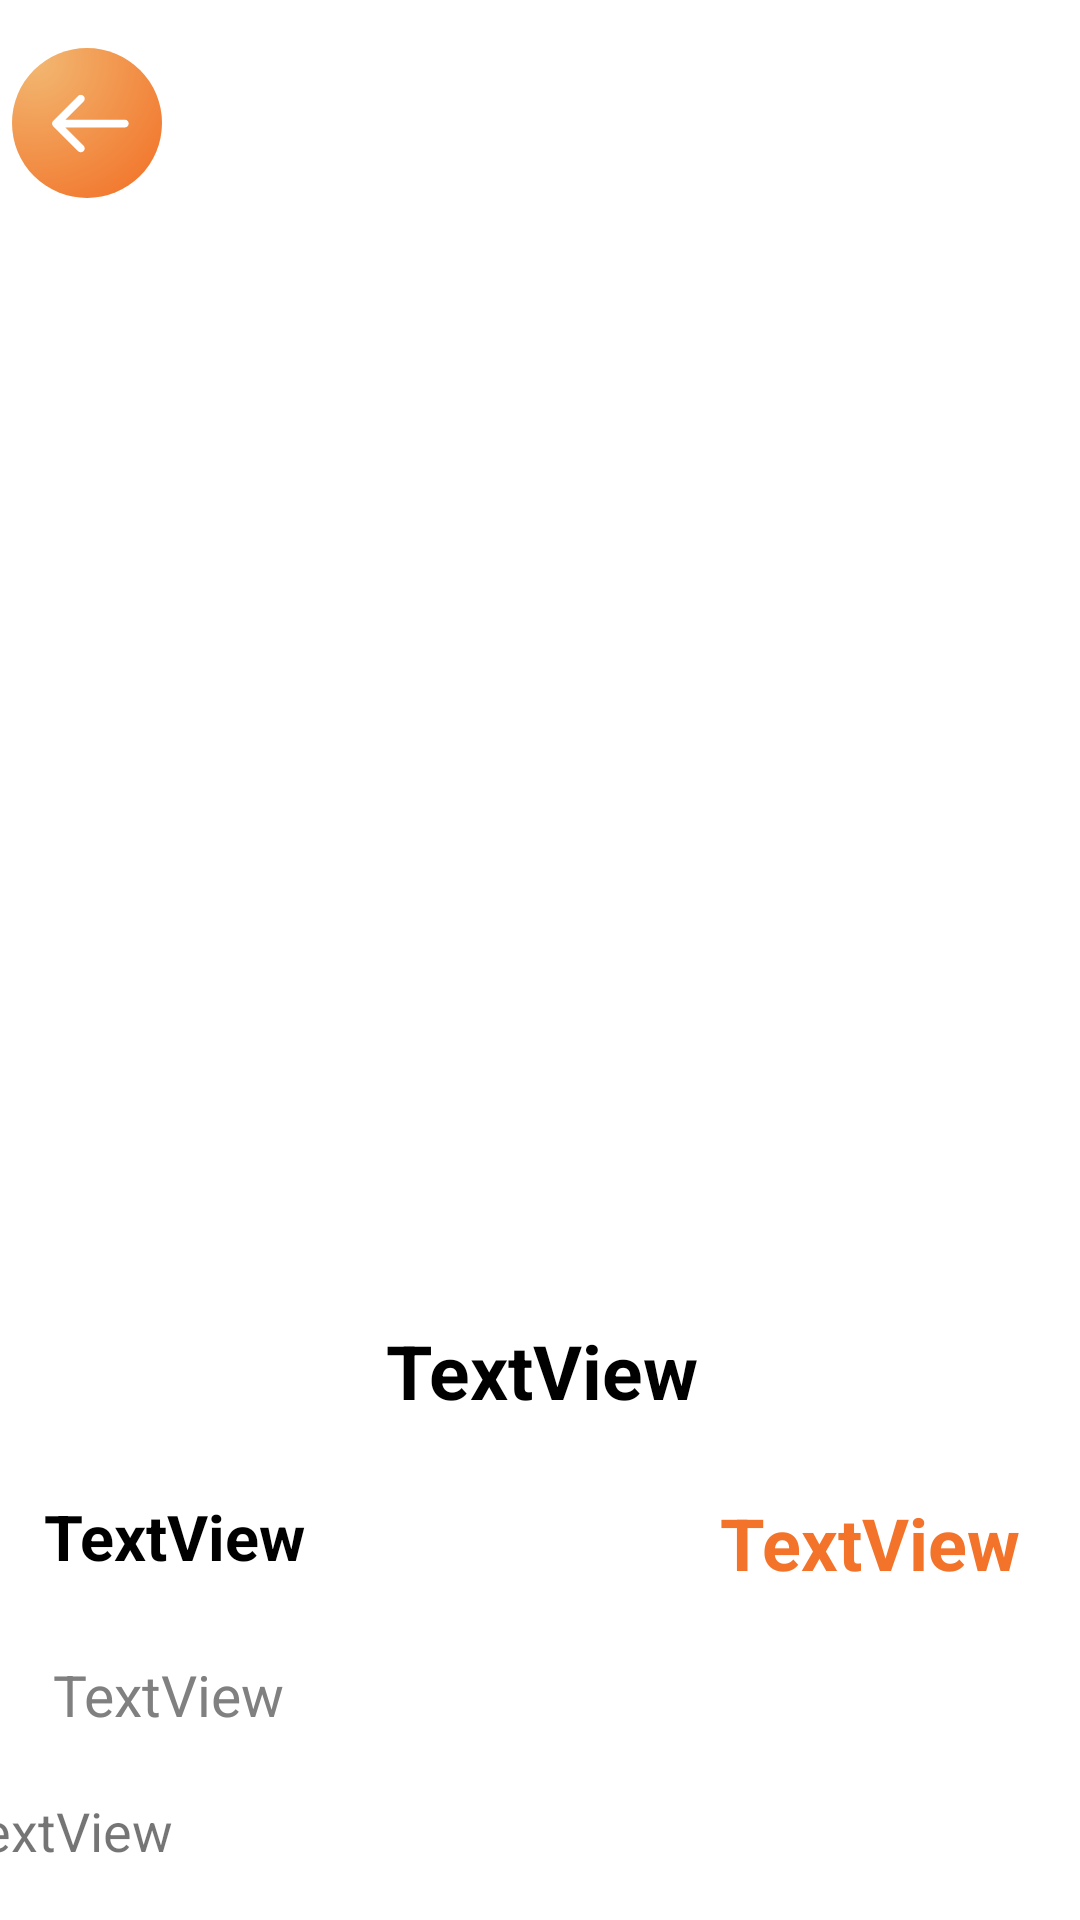

Icons on this 1080w x 1920h Android screen, each with the point to tap as point (x, y):
back: point (87, 123)
